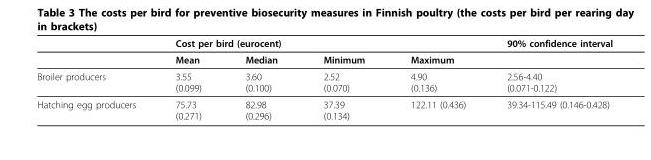table: (36, 37, 612, 120)
table column: (485, 37, 612, 120), (36, 37, 154, 120), (387, 37, 485, 120), (299, 37, 387, 120), (222, 37, 299, 120), (154, 37, 222, 120)
table column header: (36, 37, 612, 67)
table row: (36, 67, 612, 95), (36, 95, 612, 120), (36, 51, 612, 67), (36, 37, 612, 51)
table spanning cell: (154, 37, 485, 51), (485, 37, 612, 67)
